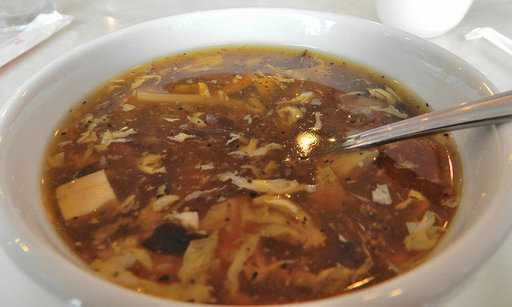soup: (26, 60, 457, 277)
